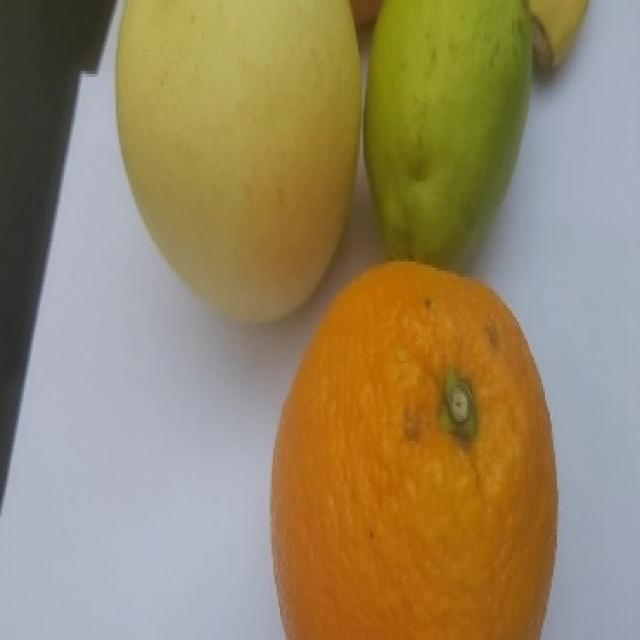Orange: (269, 259, 559, 639)
